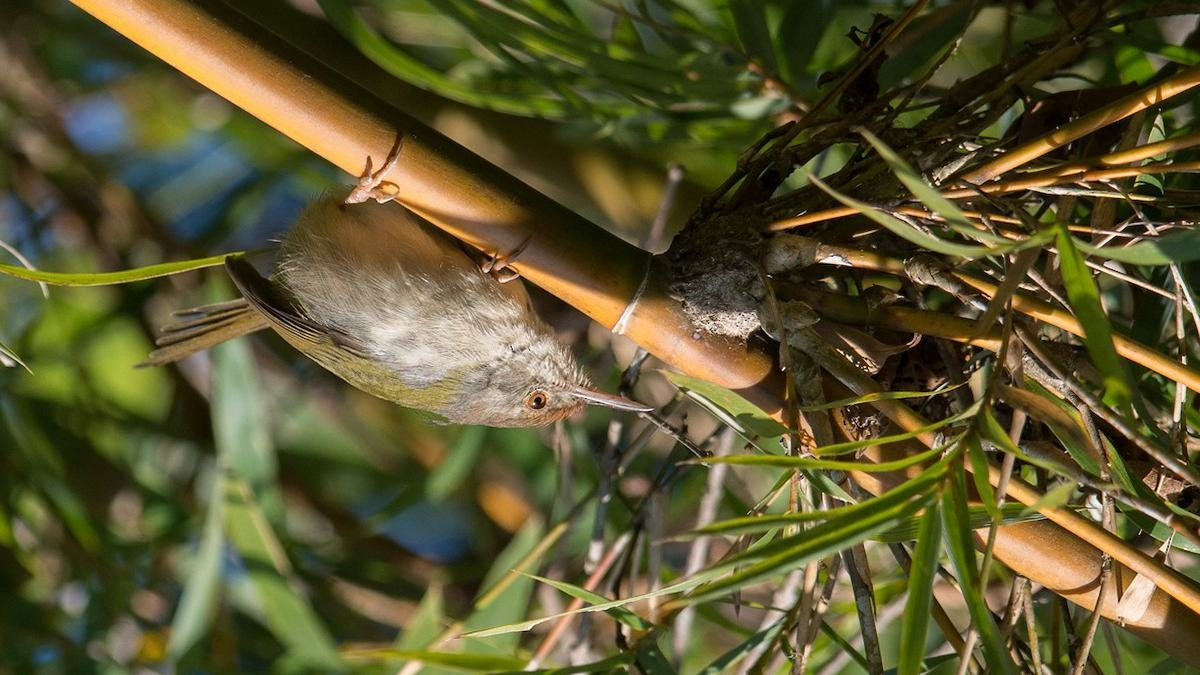tailorbird: (125, 200, 659, 421)
